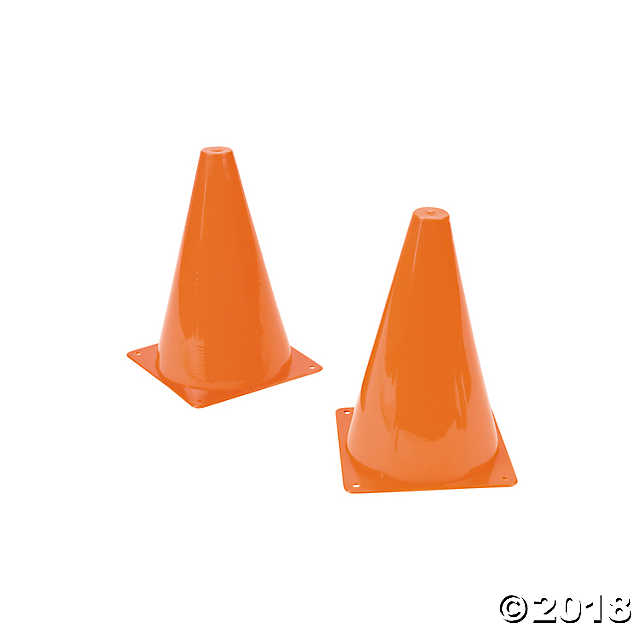orangeC: (333, 200, 541, 531), (123, 136, 314, 410)
